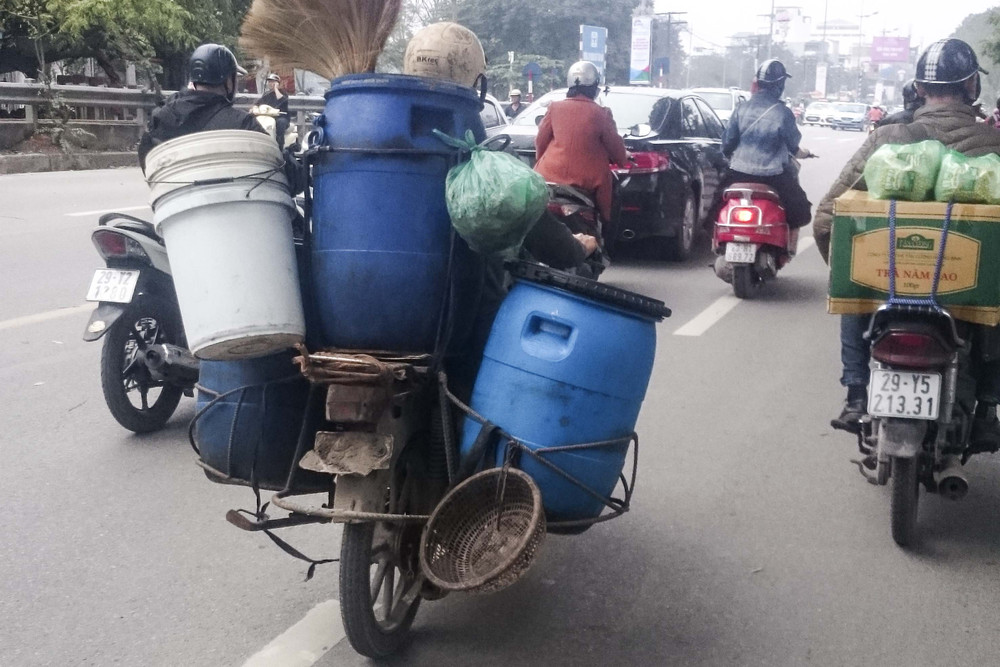bien_so: (865, 363, 947, 428), (85, 263, 144, 309), (722, 241, 761, 269)
